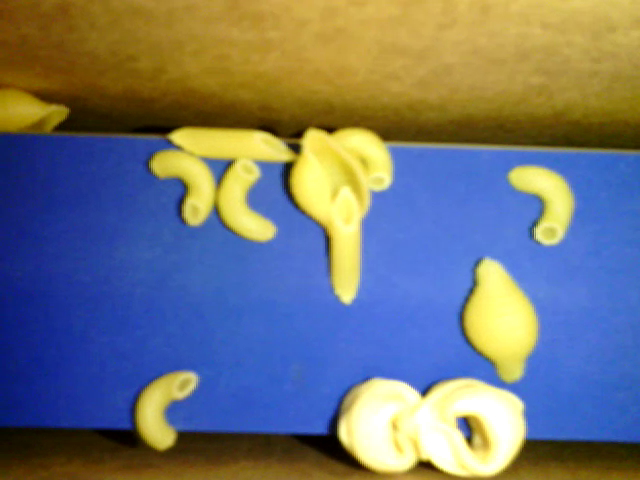penne: (166, 124, 296, 163), (328, 180, 362, 308)
shell: (460, 254, 536, 385), (290, 125, 372, 242), (213, 157, 282, 244), (503, 164, 572, 245), (149, 147, 215, 228), (133, 370, 198, 451), (325, 126, 394, 192), (1, 85, 75, 132)
tortellini: (394, 377, 528, 476), (336, 375, 427, 472)
